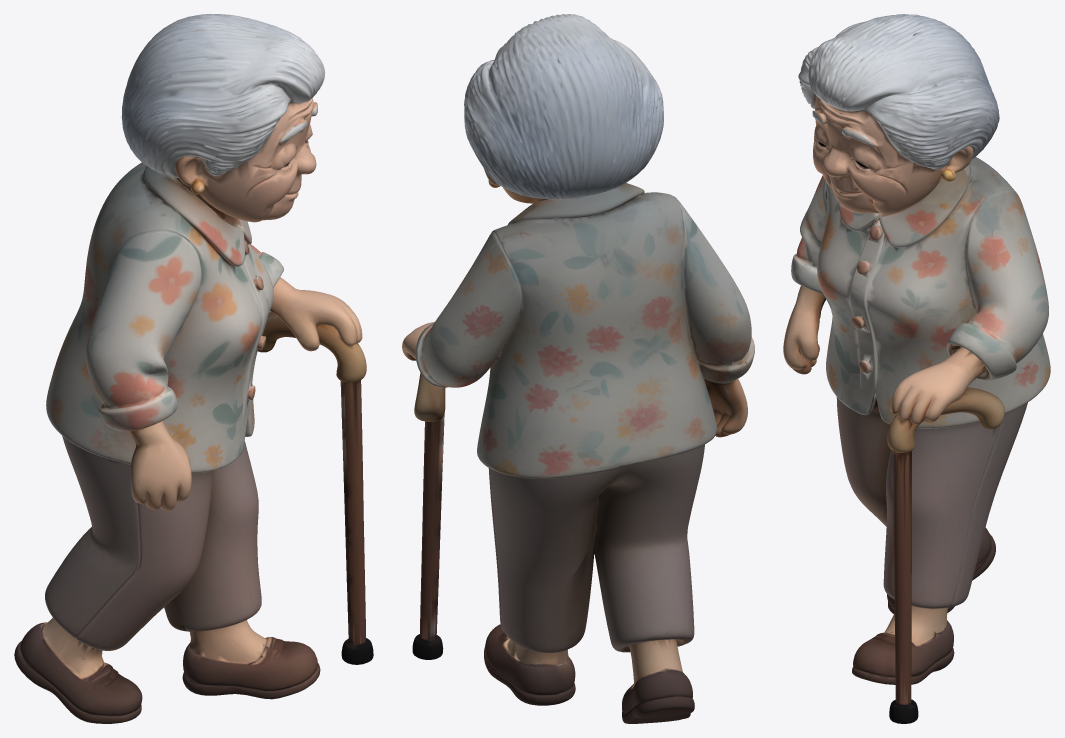
The model's file is old-woman.glb.
3 views of the same model, side by side, from view 1: azimuth 30°, elevation 25°; view 2: azimuth 150°, elevation 25°; view 3: azimuth 270°, elevation 25° (orthographic). The views are drawn at different scales.
Parts seen in each view (by area): view 1: node_0; view 2: node_0; view 3: node_0.
Boxes of the visible parts, <box> form: node_0: <box>14,14,373,723</box>; node_0: <box>402,14,754,723</box>; node_0: <box>783,14,1050,723</box>.
Size of the model in its own units: 0.5418 by 1.09 by 0.4158.
1 material, 1 textured.
